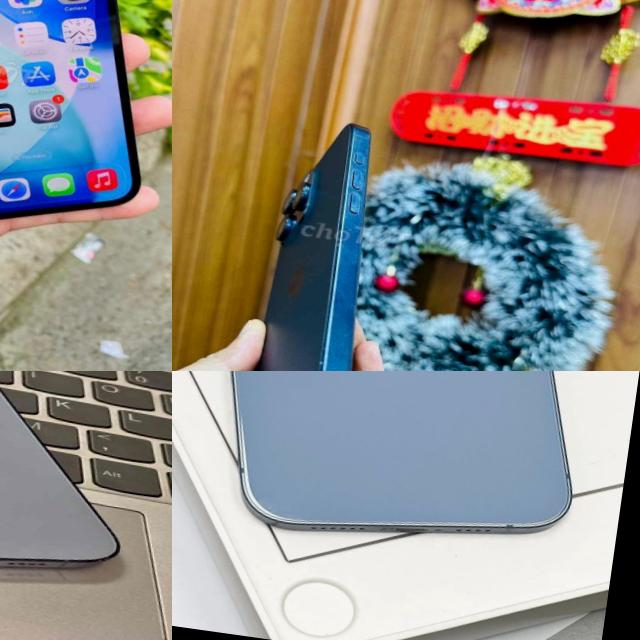gen_12_13: (0, 0, 172, 249), (0, 371, 154, 609)
gen_14: (172, 371, 630, 579)
gen_15: (203, 95, 411, 371)
